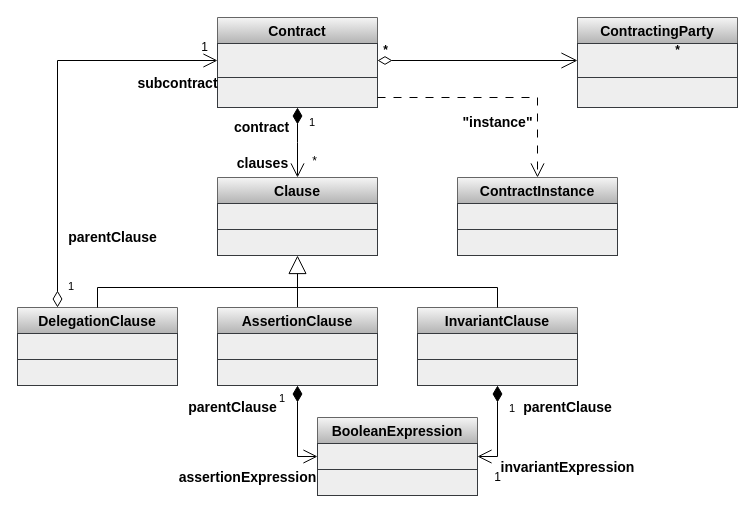
Some shapes in this 755 by 513 pixel diagram are drawn without their labels. Each missing label, with the centre of its shape:
+ expression: String: pixel 397 456
+ intent: String: pixel 297 60
